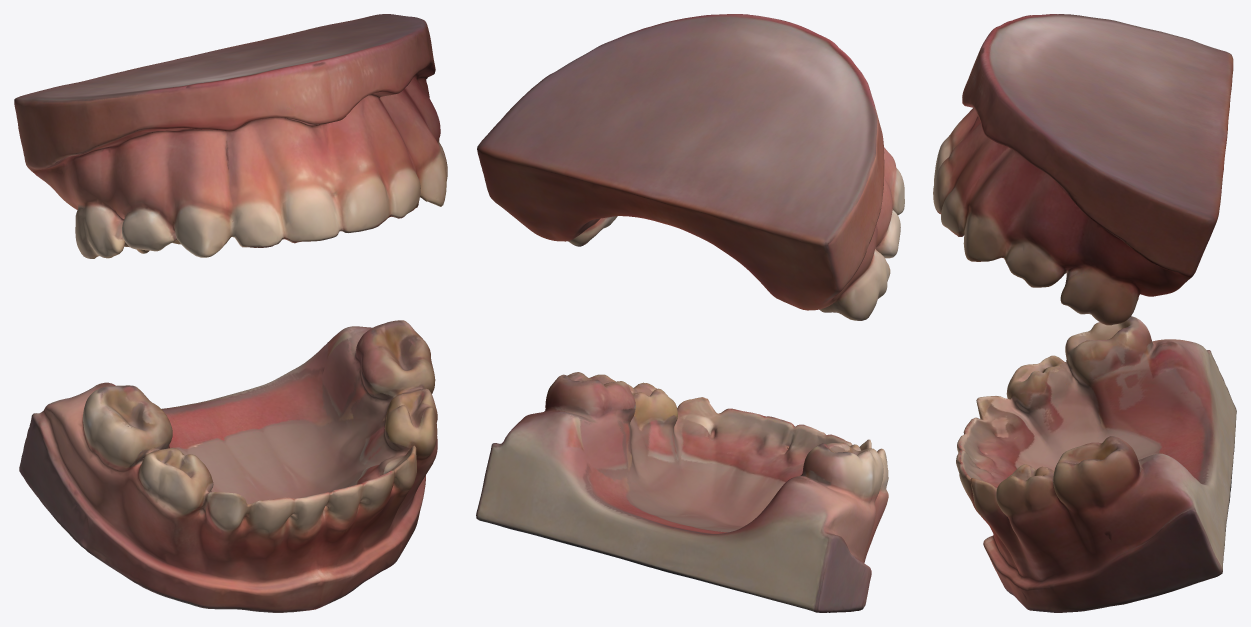
The picture shows the model from 3 angles, left to right: view 1: azimuth 30°, elevation 25°; view 2: azimuth 150°, elevation 25°; view 3: azimuth 270°, elevation 25°; orthographic projection. The views are drawn at different scales.
Size of the model in its own units: 1.4 by 2 by 1.05.
1 material, 1 textured.
